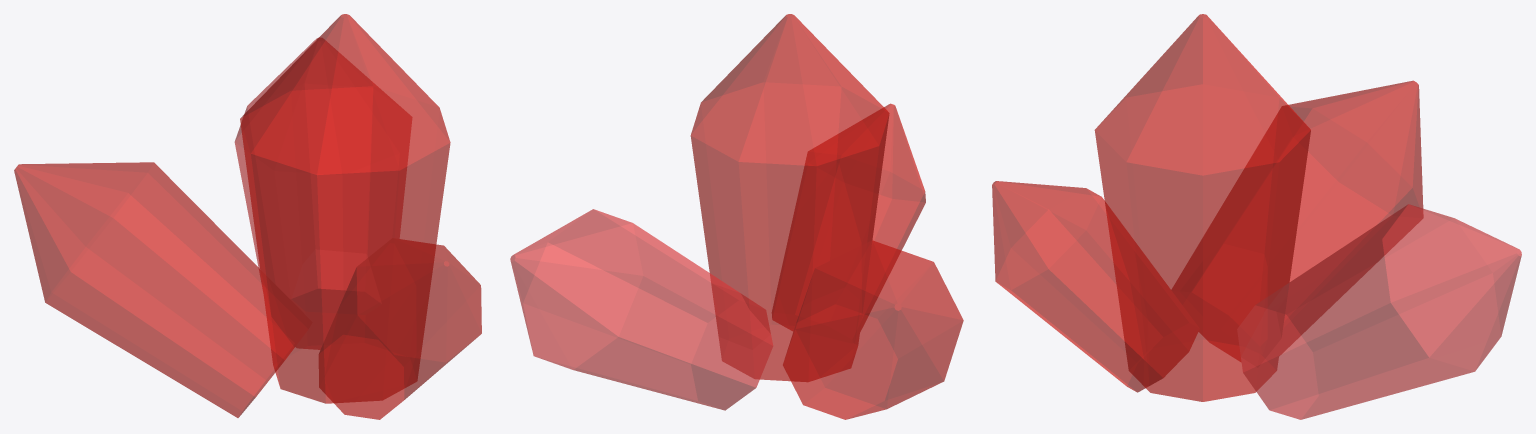
The model's file is MultiRedKristall.glb.
The picture shows the model from 3 angles, left to right: view 1: azimuth 30°, elevation 25°; view 2: azimuth 150°, elevation 25°; view 3: azimuth 270°, elevation 25°; orthographic projection. The views are drawn at different scales.
Parts seen in each view (by area): view 1: Circle.020, Circle.022, Circle.023, Circle.021; view 2: Circle.020, Circle.023, Circle.022, Circle.021; view 3: Circle.020, Circle.022, Circle.023, Circle.021.
Boxes of the visible parts, left/top/right/bottom form: Circle.020: left=240, top=14, right=450, bottom=403; Circle.022: left=14, top=162, right=312, bottom=417; Circle.023: left=234, top=37, right=411, bottom=349; Circle.021: left=319, top=238, right=481, bottom=419; Circle.020: left=690, top=14, right=889, bottom=381; Circle.023: left=510, top=209, right=773, bottom=410; Circle.022: left=783, top=240, right=963, bottom=419; Circle.021: left=772, top=103, right=925, bottom=330; Circle.020: left=1094, top=14, right=1310, bottom=401; Circle.022: left=1172, top=80, right=1423, bottom=361; Circle.023: left=1237, top=204, right=1521, bottom=419; Circle.021: left=992, top=181, right=1199, bottom=392.
Bounding box in the file's own units: 1.2 × 1.13 × 1.39.
